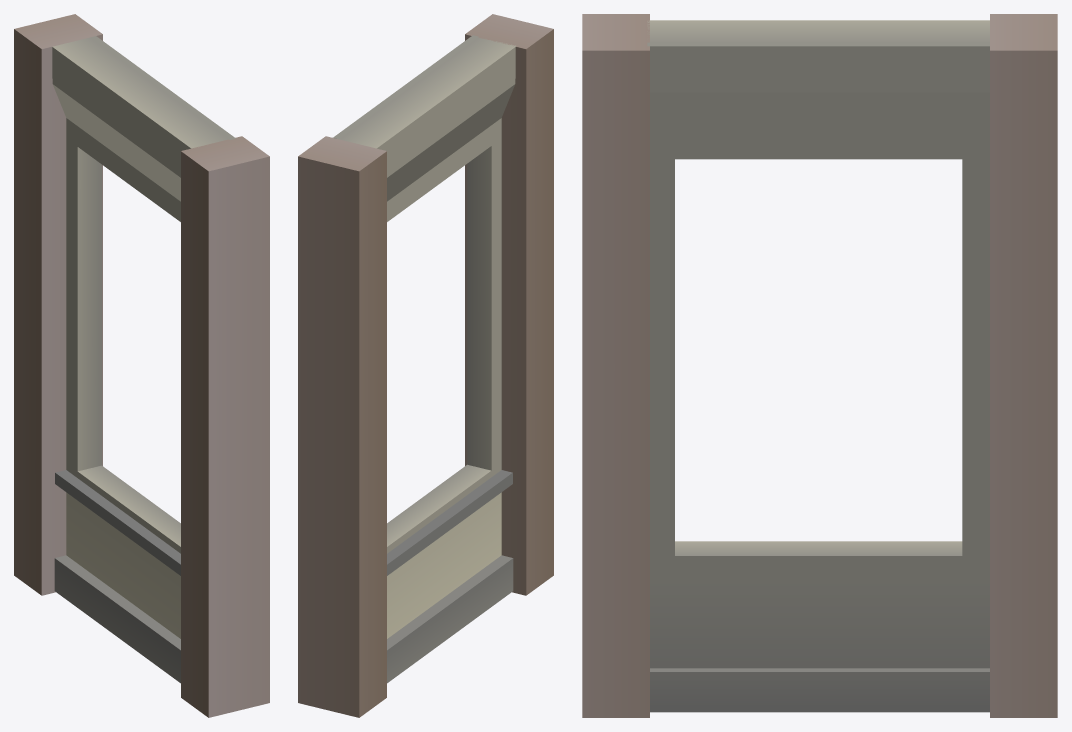
Rendered from B01_fenetre_4.fbx.
3 views of the same model, side by side, from view 1: azimuth 30°, elevation 25°; view 2: azimuth 150°, elevation 25°; view 3: azimuth 270°, elevation 25° (orthographic). The views are drawn at different scales.
Parts seen in each view (by area): view 1: B01_fenetre_4; view 2: B01_fenetre_4; view 3: B01_fenetre_4.
Part boxes in pixels (x1,y1,x2,y2): B01_fenetre_4: [14, 14, 269, 717]; B01_fenetre_4: [298, 14, 553, 717]; B01_fenetre_4: [582, 14, 1057, 717].
Bounding box in the file's own units: 35.78 × 305 × 197.
